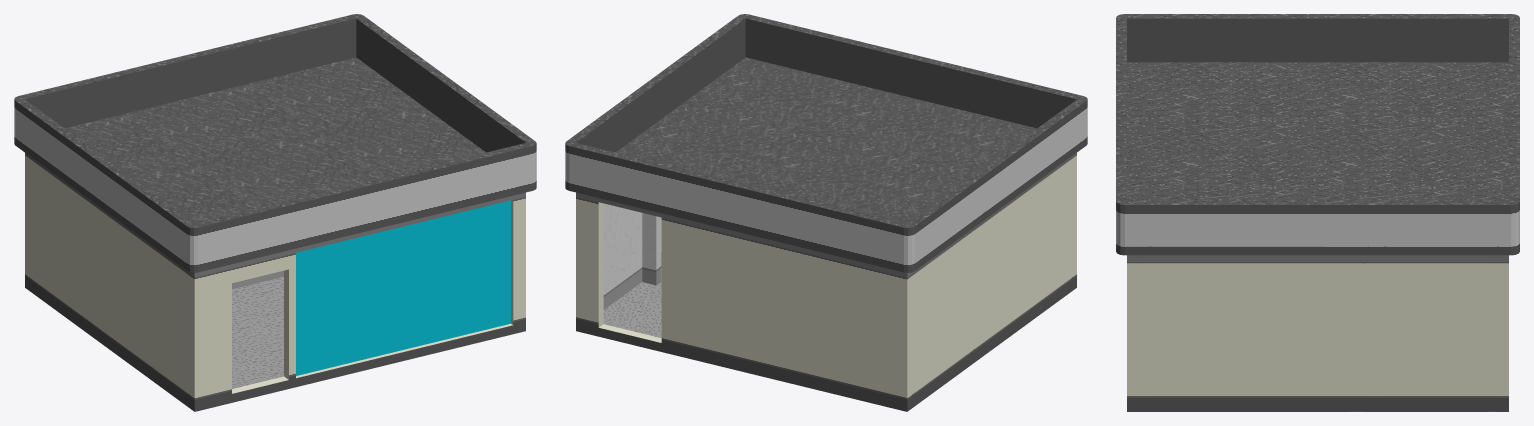
Rendered from FuelStation_Building.fbx.
3 views of the same model, side by side, from view 1: azimuth 30°, elevation 25°; view 2: azimuth 150°, elevation 25°; view 3: azimuth 270°, elevation 25° (orthographic). The views are drawn at different scales.
Parts seen in each view (by area): view 1: Fuel_Station_Building_1; view 2: Fuel_Station_Building_1; view 3: Fuel_Station_Building_1.
Boxes of the visible parts, <box> form: Fuel_Station_Building_1: <box>14,14,536,411</box>; Fuel_Station_Building_1: <box>565,14,1087,411</box>; Fuel_Station_Building_1: <box>1116,14,1519,411</box>.
Size of the model in its own units: 1220 by 630 by 1090.
Materials: 7 (6 with a texture image).
